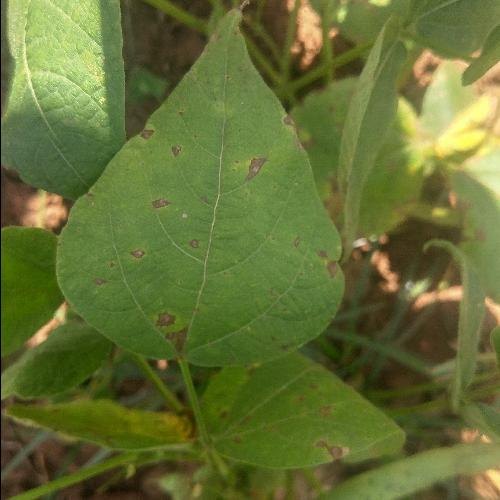hawar: (72, 62, 314, 444)
